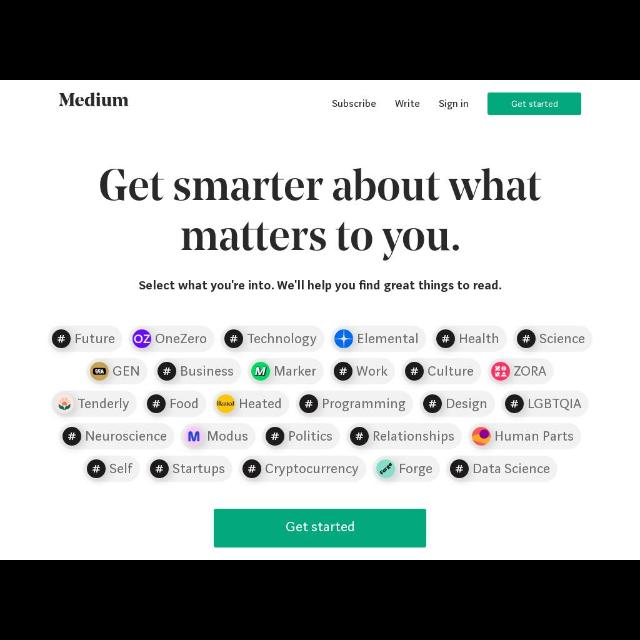image: (142, 394, 166, 412), (52, 329, 72, 349), (334, 329, 354, 348), (472, 428, 491, 448), (149, 459, 169, 478), (224, 329, 243, 348), (90, 362, 110, 380), (56, 394, 74, 414), (349, 428, 369, 446), (242, 460, 262, 478), (132, 329, 150, 348), (436, 329, 454, 348), (185, 428, 203, 447), (449, 460, 468, 478), (517, 330, 535, 348), (158, 363, 176, 381), (252, 362, 270, 380), (334, 363, 352, 381), (218, 394, 236, 412), (506, 395, 524, 413), (266, 428, 284, 446), (88, 460, 106, 478), (492, 361, 508, 381), (422, 398, 441, 414), (407, 362, 425, 378), (64, 428, 82, 444), (377, 461, 395, 477), (302, 397, 316, 413)
text: (96, 166, 550, 262), (138, 280, 504, 294), (58, 92, 130, 110), (321, 398, 405, 412), (85, 430, 167, 444), (474, 463, 550, 477), (496, 431, 574, 444), (374, 431, 456, 443), (248, 333, 318, 347), (76, 396, 132, 412), (172, 462, 225, 476), (267, 467, 359, 475), (445, 397, 487, 413), (526, 399, 582, 411), (156, 333, 208, 345), (358, 334, 420, 344), (237, 396, 283, 409), (431, 365, 473, 379), (290, 430, 332, 444), (460, 332, 500, 346), (541, 334, 587, 346), (205, 430, 249, 442), (182, 366, 234, 376), (275, 366, 315, 378), (438, 98, 472, 112), (400, 464, 432, 478), (333, 99, 377, 109), (74, 334, 116, 344), (357, 366, 388, 378), (170, 397, 200, 409), (512, 366, 546, 376), (394, 98, 420, 110), (115, 362, 137, 376), (110, 462, 132, 476)
textbutton: (214, 508, 426, 550), (486, 92, 584, 116)
